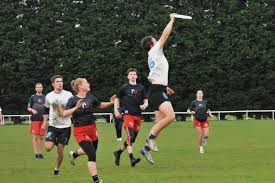disc: (171, 13, 194, 19)
